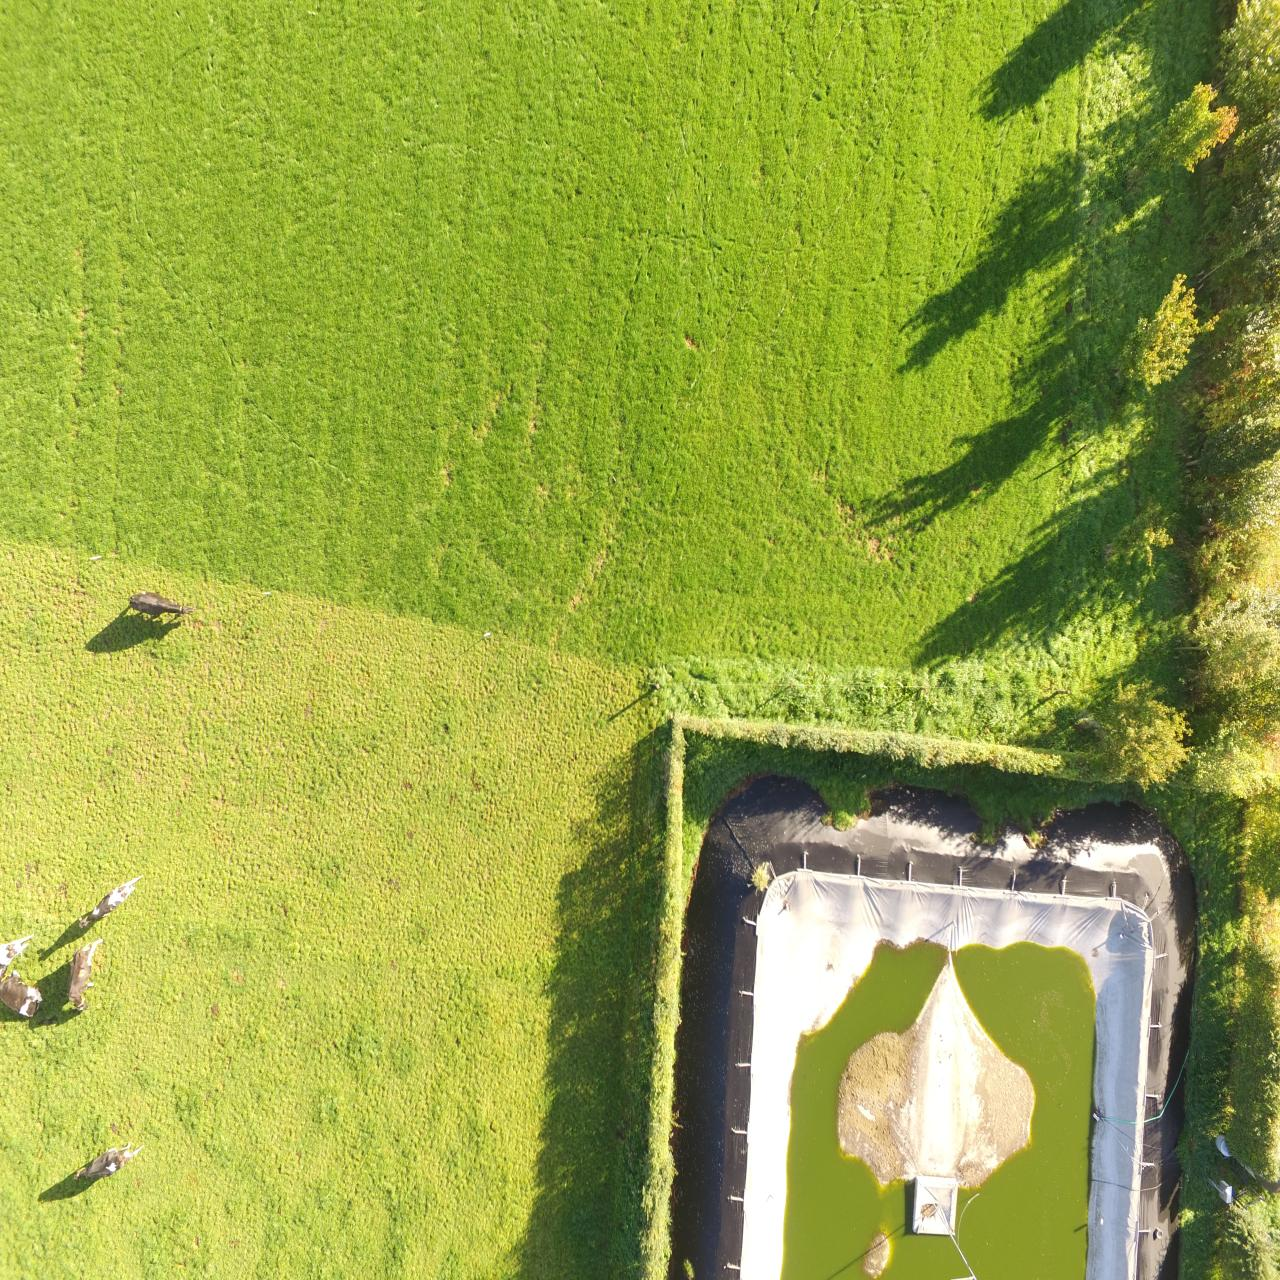cow: (75, 873, 143, 926), (70, 1142, 145, 1186), (68, 938, 105, 1012), (0, 971, 45, 1016), (125, 587, 195, 617)
